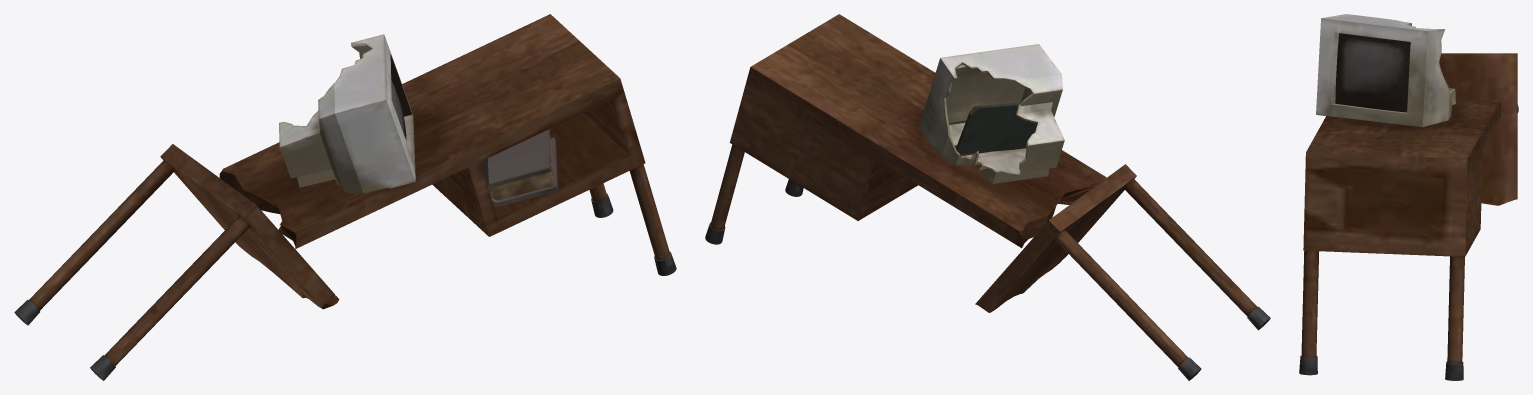
File: broken_table-opt.glb
3 renders of one model, left to right at view 1: azimuth 30°, elevation 25°; view 2: azimuth 150°, elevation 25°; view 3: azimuth 270°, elevation 25°, orthographic. The views are drawn at different scales.
Visible parts, largest first — view 1: Table_WOOD_0, Table_CRT monitor_0, Table_Book case_0, Table_Rubber_0, Table_Paper_0, Table_Screen_0; view 2: Table_WOOD_0, Table_CRT monitor_0, Table_Wiring_0, Table_Rubber_0; view 3: Table_WOOD_0, Table_CRT monitor_0, Table_Screen_0, Table_Rubber_0.
Boxes of the visible parts, <box> form: Table_WOOD_0: <box>29,14,670,365</box>; Table_CRT monitor_0: <box>279,34,415,193</box>; Table_Book case_0: <box>481,129,557,206</box>; Table_Rubber_0: <box>14,193,676,380</box>; Table_Paper_0: <box>489,136,553,200</box>; Table_Screen_0: <box>390,54,411,139</box>; Table_WOOD_0: <box>710,14,1257,367</box>; Table_CRT monitor_0: <box>918,44,1064,183</box>; Table_Wiring_0: <box>956,102,1037,153</box>; Table_Rubber_0: <box>705,179,1270,380</box>; Table_WOOD_0: <box>1301,53,1517,363</box>; Table_CRT monitor_0: <box>1316,14,1455,127</box>; Table_Screen_0: <box>1335,33,1410,112</box>; Table_Rubber_0: <box>1299,104,1518,380</box>.
Bounding box in the file's own units: 3.21 × 1.34 × 1.11.
Materials: 7 (7 with a texture image).
